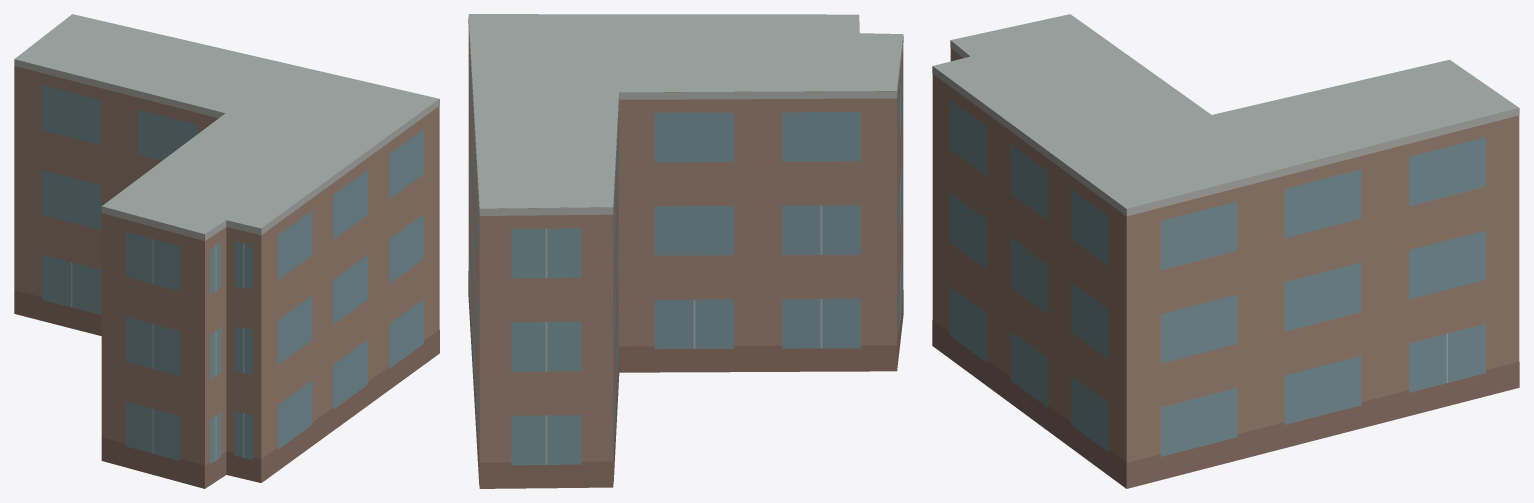
File: survey-upis-32838068.glb
The picture shows the model from 3 angles, left to right: view 1: azimuth 30°, elevation 25°; view 2: azimuth 150°, elevation 25°; view 3: azimuth 270°, elevation 25°; orthographic projection. The views are drawn at different scales.
Parts seen in each view (by area): view 1: survey-upis-32838068.tmp; view 2: survey-upis-32838068.tmp; view 3: survey-upis-32838068.tmp.
Boxes of the visible parts, box(x1,y1,x2,y2) form: survey-upis-32838068.tmp: box(14, 14, 439, 488); survey-upis-32838068.tmp: box(468, 14, 903, 488); survey-upis-32838068.tmp: box(932, 14, 1519, 488).
Bounding box in the file's own units: 13.68 × 9.15 × 17.4.
